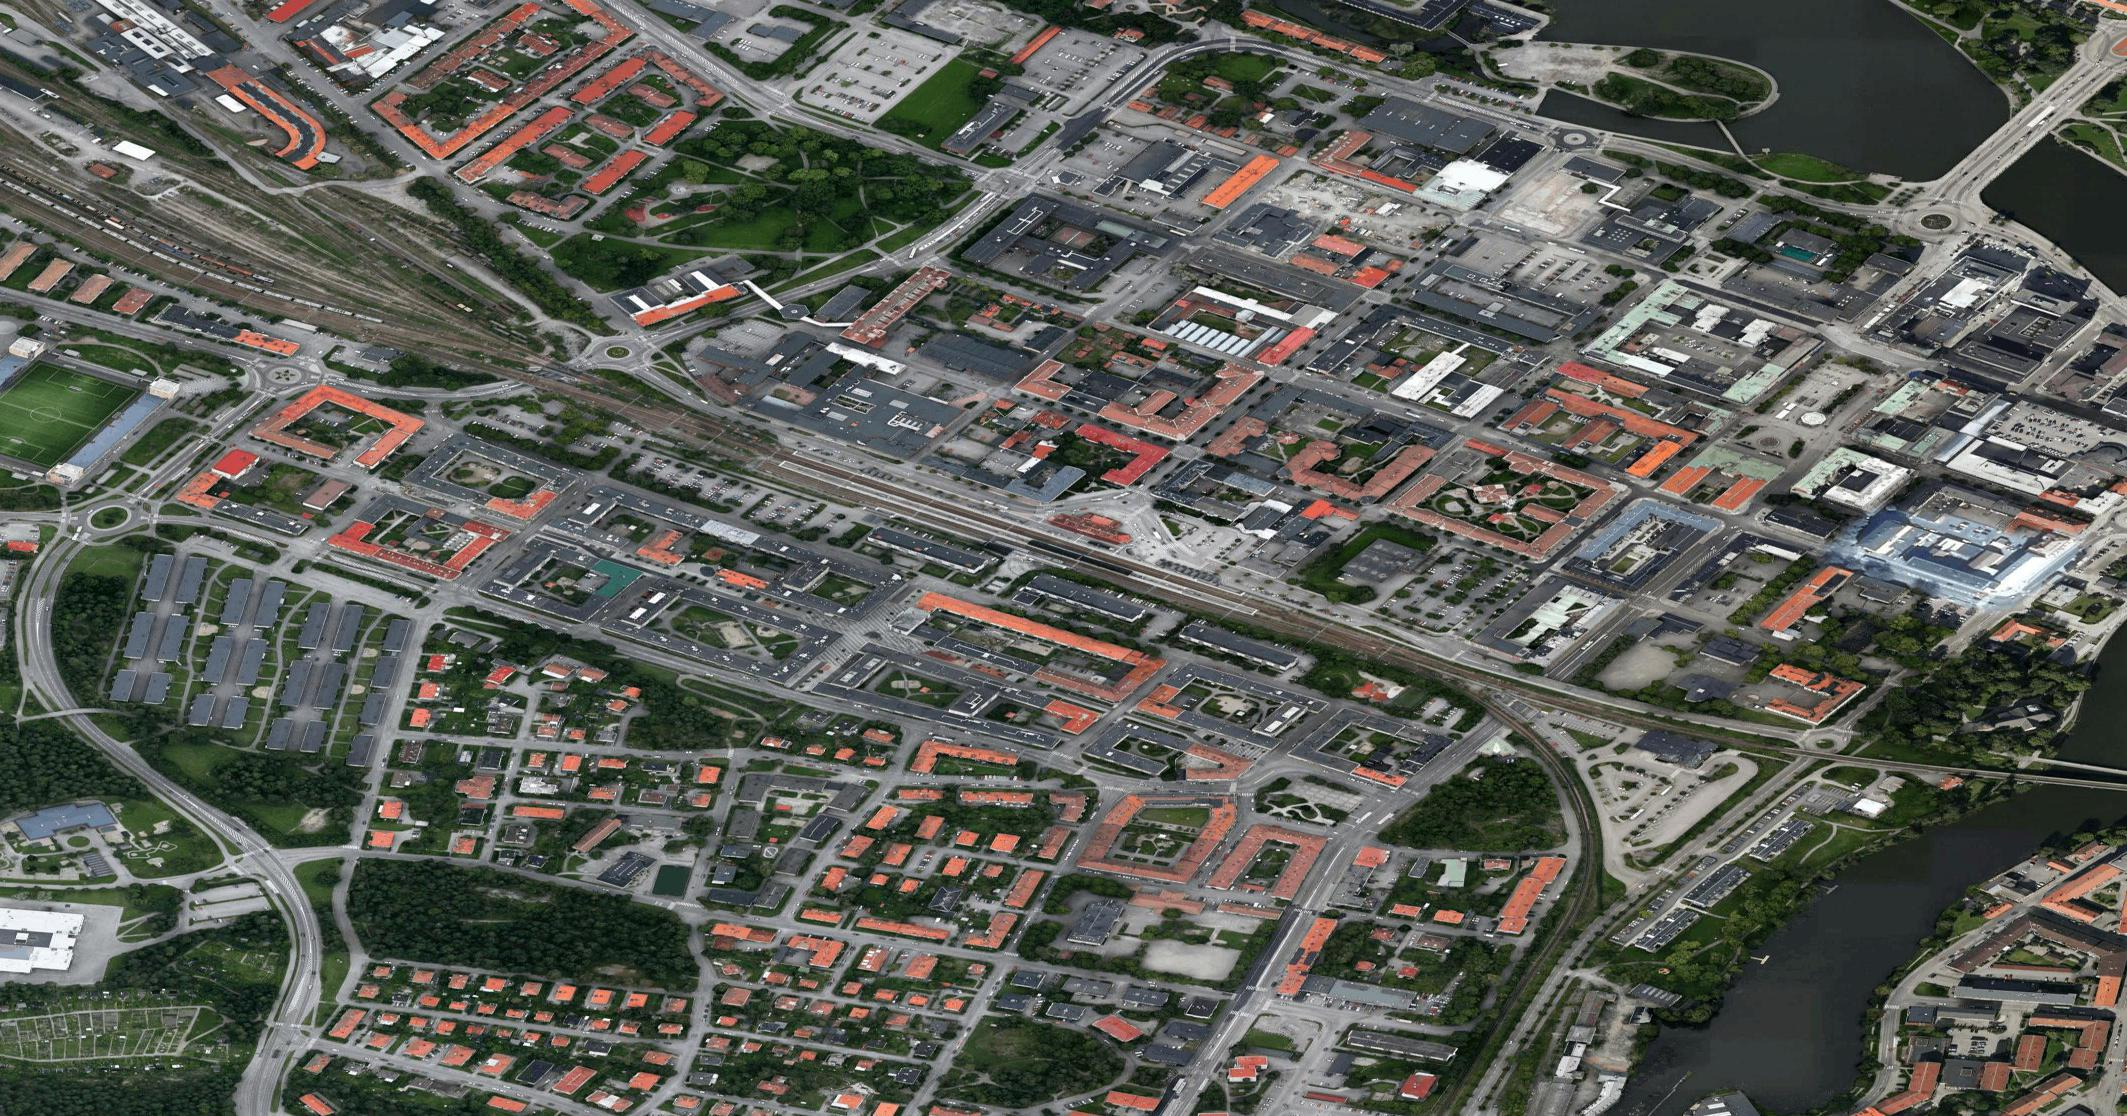bridge: (1948, 104, 2048, 186), (2031, 744, 2127, 792)
motorway: (229, 820, 319, 965), (231, 965, 317, 1116), (103, 742, 229, 837), (18, 630, 120, 740), (13, 526, 79, 632)
train_station: (767, 439, 1182, 614)
